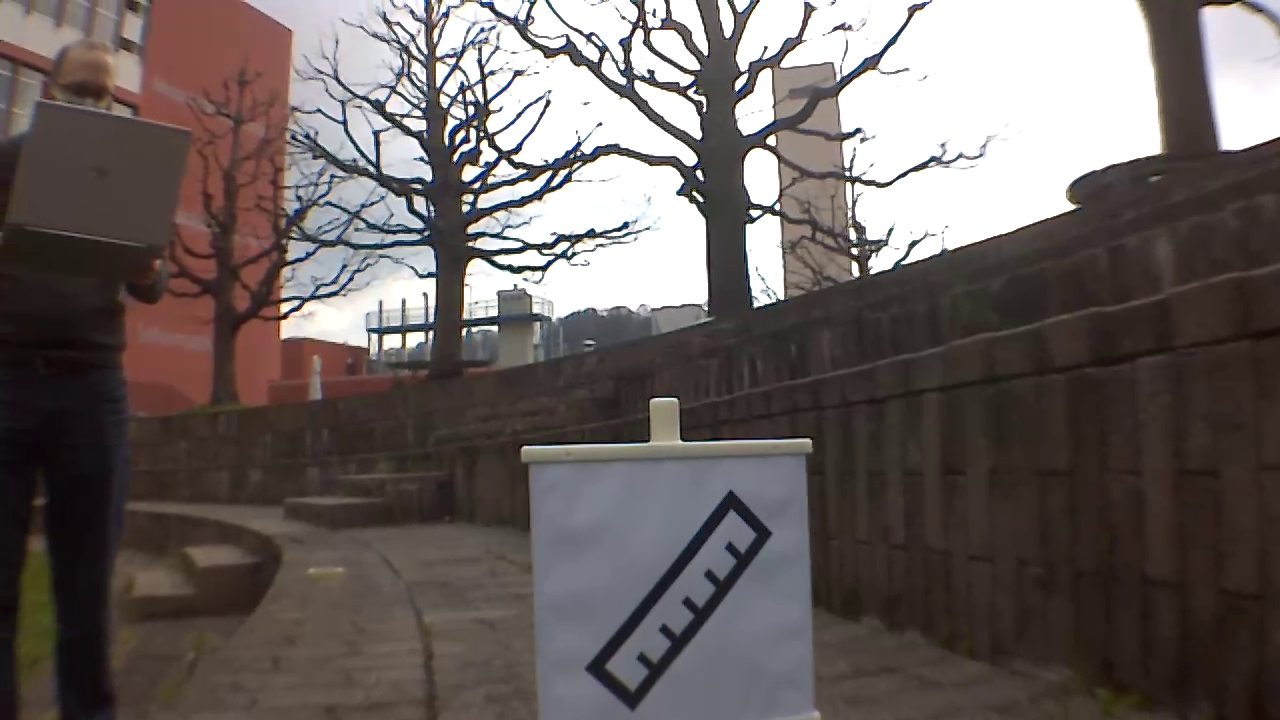ruler: (583, 488, 780, 710)
